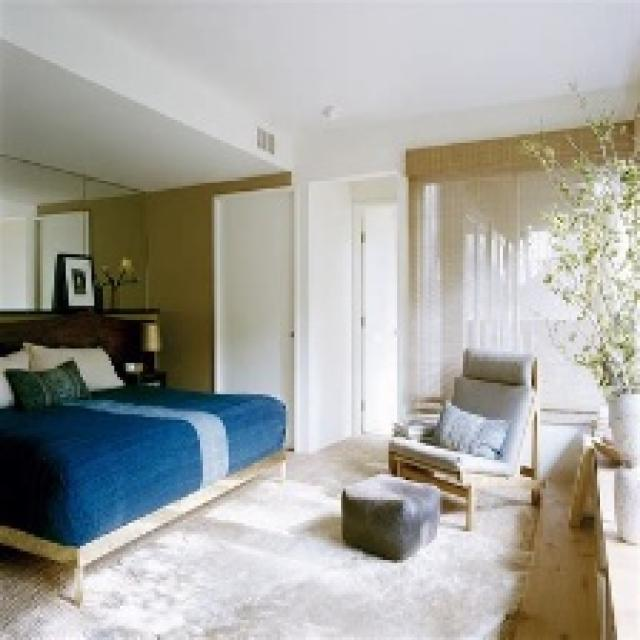Bed: (0, 308, 286, 606)
